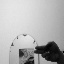h: (33, 40, 63, 63)
